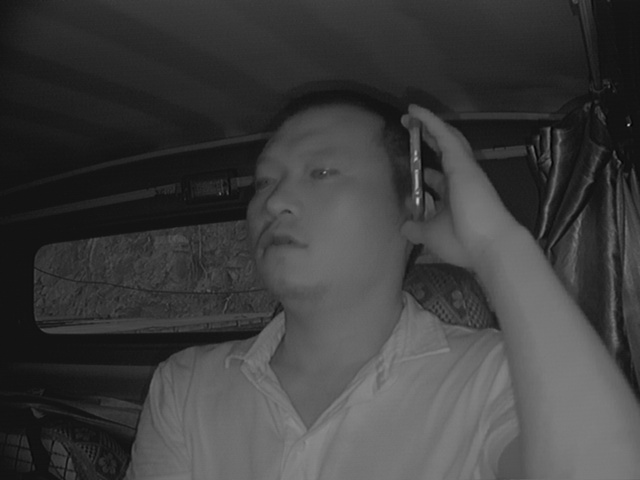hand: (392, 103, 494, 267)
